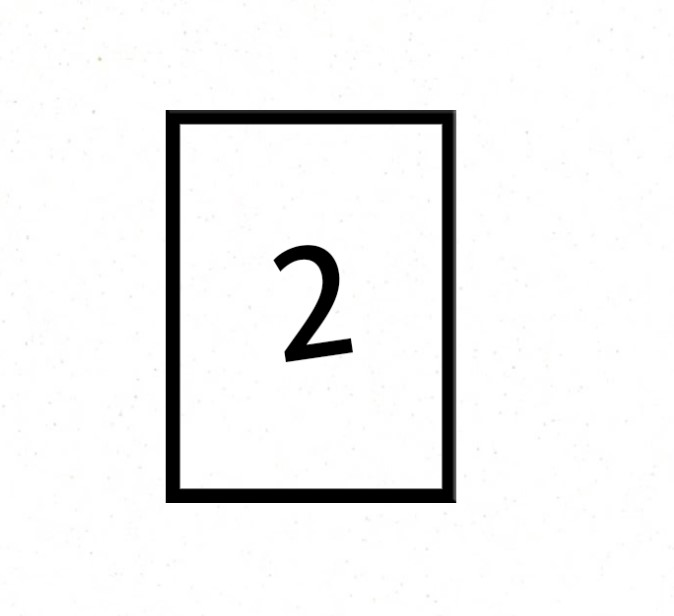two: (217, 168, 421, 431)
